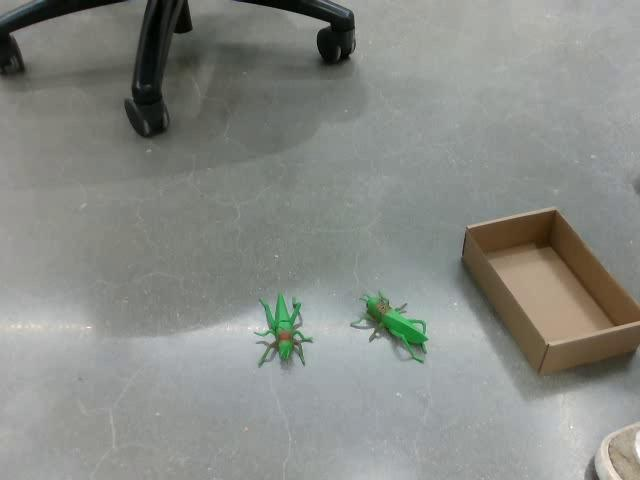box: (460, 206, 639, 376)
grasshopper: (349, 289, 429, 363), (253, 292, 313, 368)
